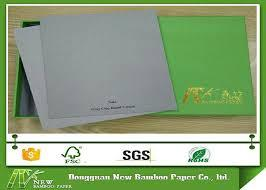Cardboard: (9, 15, 256, 133)
